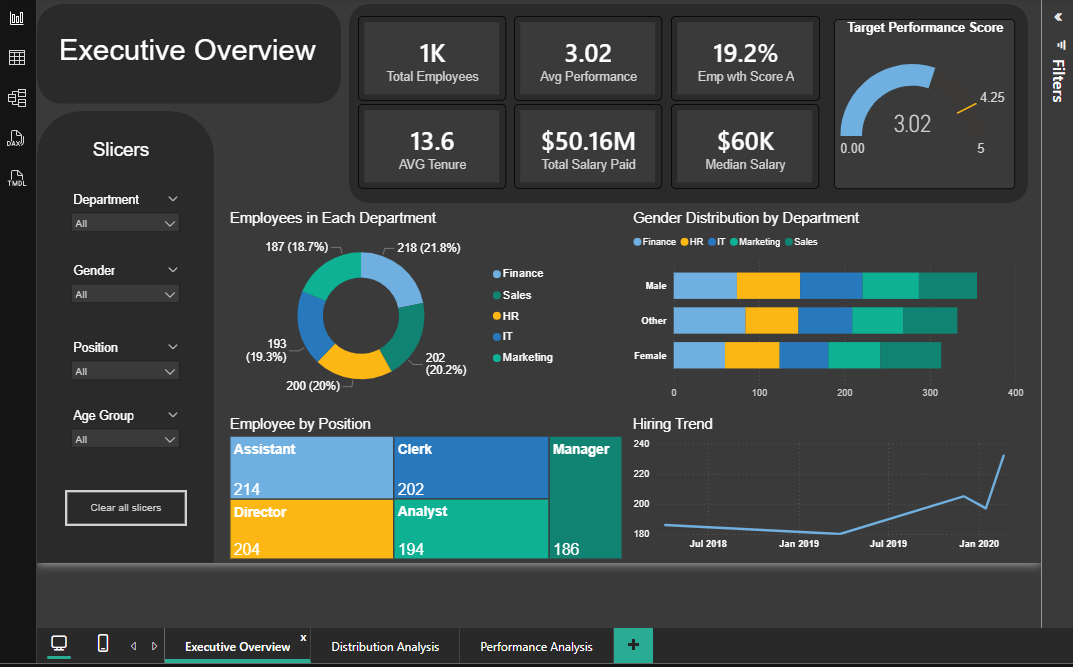

The page's visual inventory and layout, read from the dashboard file:
{"tool":"powerbi","page":{"name":"Executive Overview","canvas":[1280,720],"ordinal":0},"visuals":[{"type":"shape","box":[0,144.1,225.7,576.3],"z":0},{"type":"shape","box":[397.8,7.6,865.7,253.7],"z":1000},{"type":"cardVisual","title":"AVG Performance","fields":{"Data":["working_sheet.Avg Performance"]},"box":[608.1,22.9,188.7,108.4],"z":2000},{"type":"cardVisual","title":"Star Employees","fields":{"Data":["working_sheet.A Score Employee"]},"box":[808.3,22.9,190,108.4],"z":3000},{"type":"cardVisual","title":"AVG Tenure","fields":{"Data":["working_sheet.Tenure AVG"]},"box":[409.2,135.1,188.7,108.4],"z":4000},{"type":"cardVisual","title":"Total Salary Paid","fields":{"Data":["working_sheet.Total Salary Paid"]},"box":[608.1,135.1,188.7,108.4],"z":5000},{"type":"cardVisual","title":"AVG Salary","fields":{"Data":["working_sheet.Median Salary"]},"box":[808.3,135.1,188.7,108.4],"z":6000},{"type":"donutChart","title":"Employees in Each Department","fields":{"Y":["working_sheet.Employee Count by Dept"],"Category":["working_sheet.Department"]},"box":[241,270.3,432.2,248.6],"z":7000},{"type":"barChart","title":"Gender Distribution by Department","fields":{"Y":["CountNonNull(working_sheet.EmployeeID)"],"Category":["working_sheet.Gender"],"Series":["working_sheet.Department"]},"box":[754.7,270.3,508.7,248.6],"z":8000},{"type":"treemap","title":"Employee by Position","fields":{"Group":["working_sheet.Position"],"Values":["CountNonNull(working_sheet.EmployeeID)"]},"box":[241,532.9,510,187.4],"z":9000},{"type":"gauge","title":"Target Performance Score","fields":{"Y":["working_sheet.Avg Performance"],"TargetValue":["DateTable.Target Score"],"MaxValue":["DateTable.Max Score"]},"box":[1016.1,26.8,230.8,216.7],"z":10000},{"type":"lineChart","title":"Hiring Trend","fields":{"Y":["CountNonNull(working_sheet.EmployeeID)"],"Category":["working_sheet.Joining Date"]},"box":[754.7,532.9,508.7,178.5],"z":11000},{"type":"cardVisual","title":"Total Employees","fields":{"Data":["working_sheet.Total Employees"]},"box":[409.2,22.9,188.7,108.4],"z":12000},{"type":"shape","box":[0,7.6,387.6,127.5],"z":13000},{"type":"textbox","box":[0,39.5,383.7,62.5],"z":14000},{"type":"actionButton","box":[35.7,627.3,155.5,45.9],"z":14001},{"type":"slicer","fields":{"Values":["working_sheet.Department"]},"box":[33.1,243.5,159.4,67.6],"z":14002},{"type":"slicer","fields":{"Values":["working_sheet.Gender"]},"box":[33.1,334,159.4,61.2],"z":14003},{"type":"slicer","fields":{"Values":["working_sheet.Age Group"]},"box":[33.1,518.9,159.4,66.3],"z":14004},{"type":"slicer","fields":{"Values":["working_sheet.Position"]},"box":[33.1,432.2,159.4,67.6],"z":14005},{"type":"textbox","box":[56.1,174.7,102,45.9],"z":14006}]}

Visuals, with their boxes on the page's 1280x720 design canvas (x1, y1, x2, y2). These are canvas units, not pixel positions in the 1073x667 screenshot, which may show the page scaled, cropped or inside an application window:
shape: Rect(0, 144, 226, 720)
shape: Rect(398, 8, 1264, 261)
"AVG Performance" cardVisual: Rect(608, 23, 797, 131)
"Star Employees" cardVisual: Rect(808, 23, 998, 131)
"AVG Tenure" cardVisual: Rect(409, 135, 598, 244)
"Total Salary Paid" cardVisual: Rect(608, 135, 797, 244)
"AVG Salary" cardVisual: Rect(808, 135, 997, 244)
"Employees in Each Department" donutChart: Rect(241, 270, 673, 519)
"Gender Distribution by Department" barChart: Rect(755, 270, 1263, 519)
"Employee by Position" treemap: Rect(241, 533, 751, 720)
"Target Performance Score" gauge: Rect(1016, 27, 1247, 244)
"Hiring Trend" lineChart: Rect(755, 533, 1263, 711)
"Total Employees" cardVisual: Rect(409, 23, 598, 131)
shape: Rect(0, 8, 388, 135)
textbox: Rect(0, 40, 384, 102)
actionButton: Rect(36, 627, 191, 673)
slicer - working_sheet.Department: Rect(33, 244, 192, 311)
slicer - working_sheet.Gender: Rect(33, 334, 192, 395)
slicer - working_sheet.Age Group: Rect(33, 519, 192, 585)
slicer - working_sheet.Position: Rect(33, 432, 192, 500)
textbox: Rect(56, 175, 158, 221)
